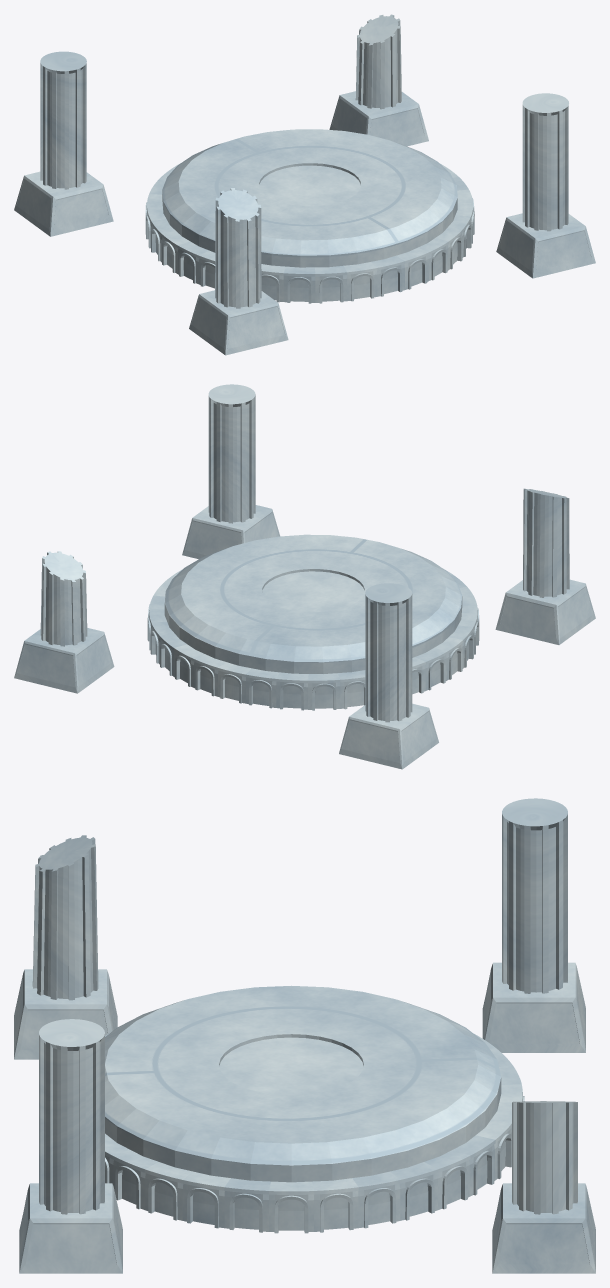
File: Portal.fbx
3 views of the same model, one above another, from view 1: azimuth 30°, elevation 25°; view 2: azimuth 150°, elevation 25°; view 3: azimuth 270°, elevation 25° (orthographic). The views are drawn at different scales.
Visible parts, largest first — view 1: Cylinder; view 2: Cylinder; view 3: Cylinder.
Part boxes in pixels (left/top/right/bottom): Cylinder: left=14, top=14, right=595, bottom=355; Cylinder: left=14, top=384, right=595, bottom=769; Cylinder: left=14, top=798, right=595, bottom=1273.
Size of the model in its own units: 1887 by 728 by 1756.
